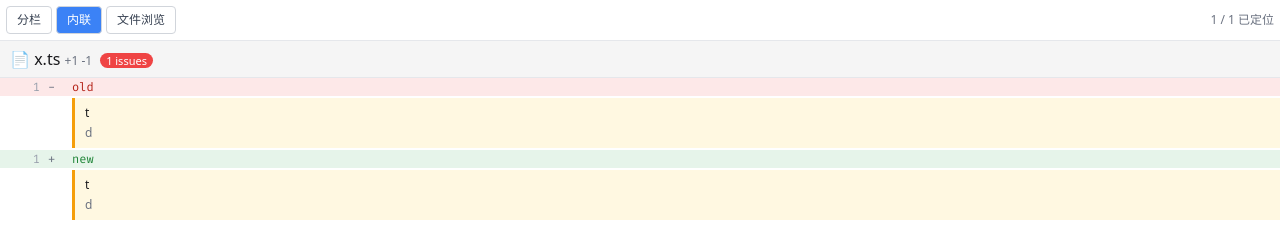
<DiffViewer> › switches layout when toolbar button clicked
Click the button with test id "layout-side-by-side" at (29, 20), box [6, 6, 52, 34]
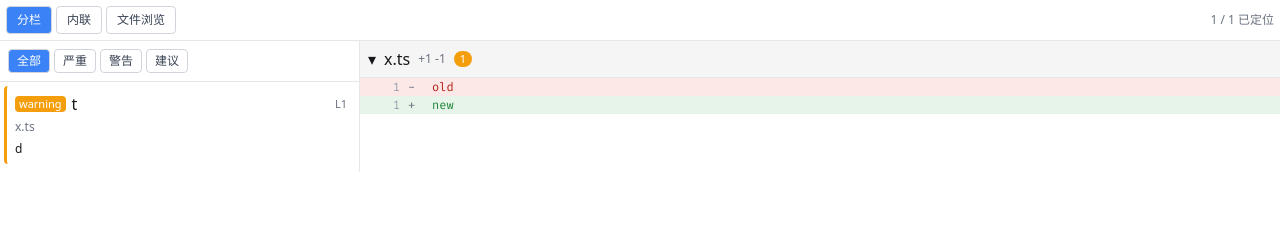
Check: the element with test id "diff-layout-side-by-side" is shown, box [0, 41, 1279, 172]
